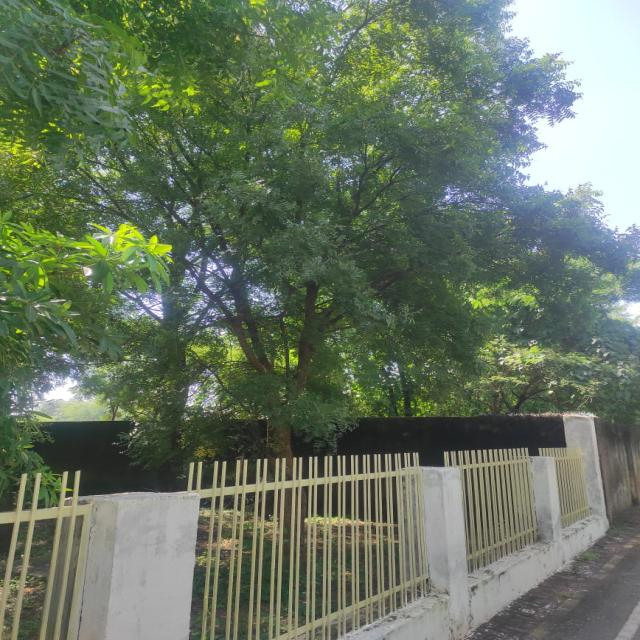Neem Tree: (81, 30, 488, 423)
